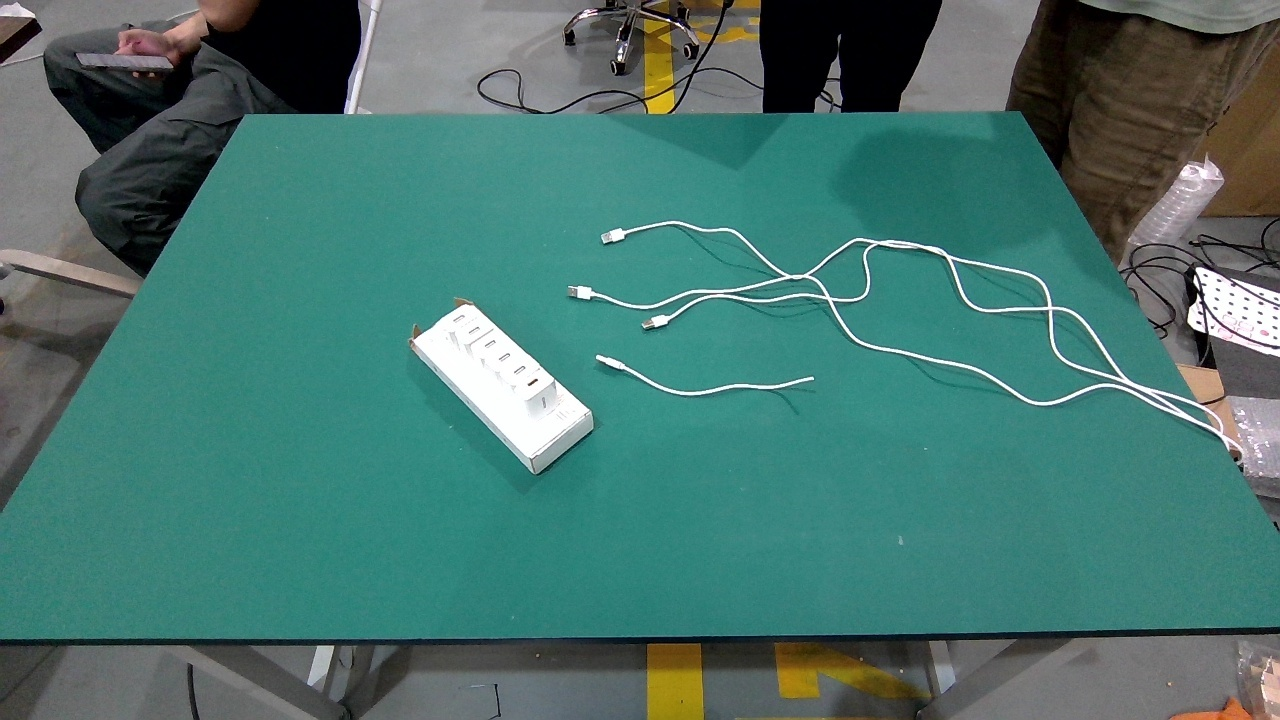usb_a_port: (454, 314, 465, 323), (469, 326, 480, 335), (515, 366, 525, 375), (528, 378, 538, 387), (485, 340, 496, 348), (500, 353, 510, 361)
